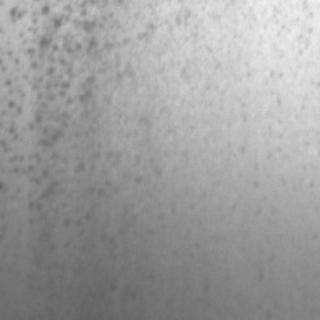pitted_surface: (0, 0, 164, 214), (186, 0, 310, 84)
